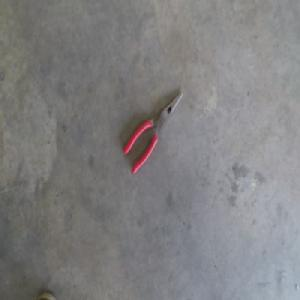Pliers: (122, 91, 182, 176)
